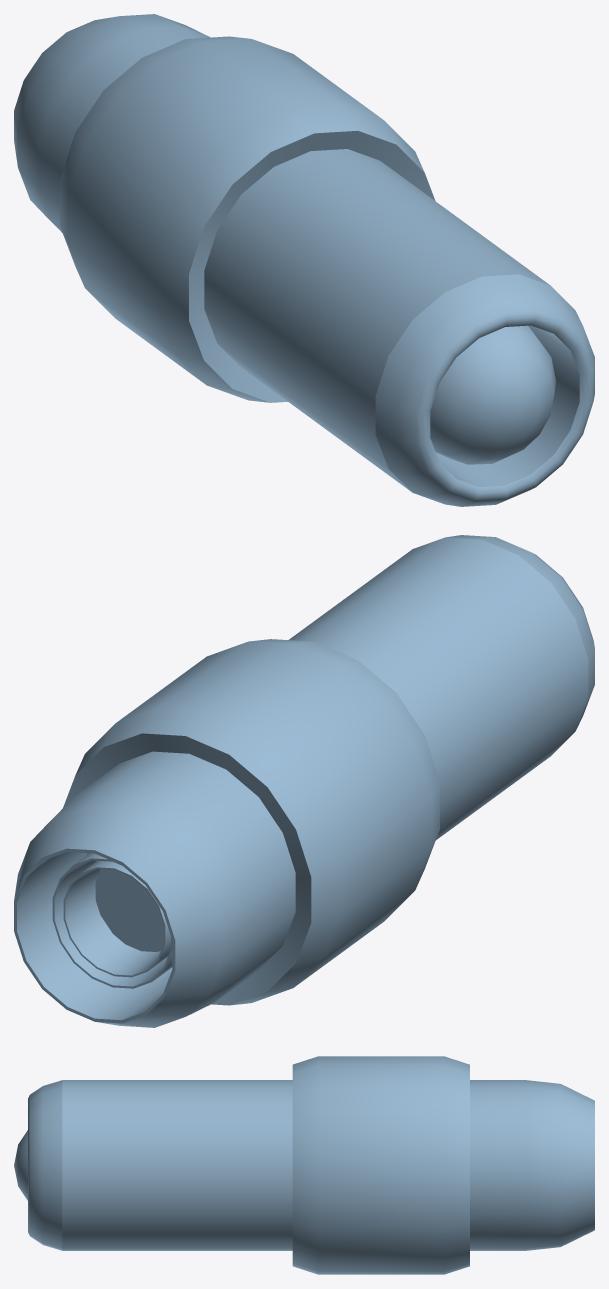
Rendered from engine 1.FBX.
3 views of the same model, one above another, from view 1: azimuth 30°, elevation 25°; view 2: azimuth 150°, elevation 25°; view 3: azimuth 270°, elevation 25° (orthographic). The views are drawn at different scales.
Visible parts, largest first — view 1: Cylinder01345; view 2: Cylinder01345; view 3: Cylinder01345.
Boxes of the visible parts, x1,y1,x2,y2 form: Cylinder01345: (14, 14, 594, 506); Cylinder01345: (14, 535, 594, 1027); Cylinder01345: (14, 1056, 594, 1274).
Bounding box in the file's own units: 0.0399 × 0.1072 × 0.0405.
